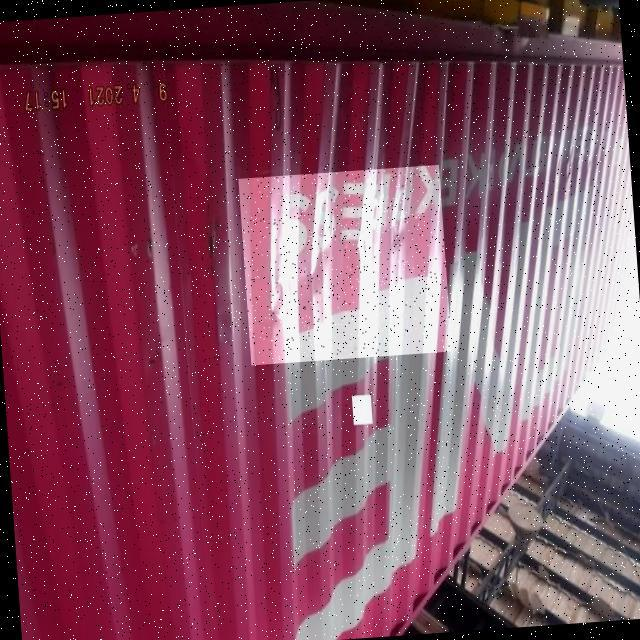Dent: (238, 164, 452, 365)
